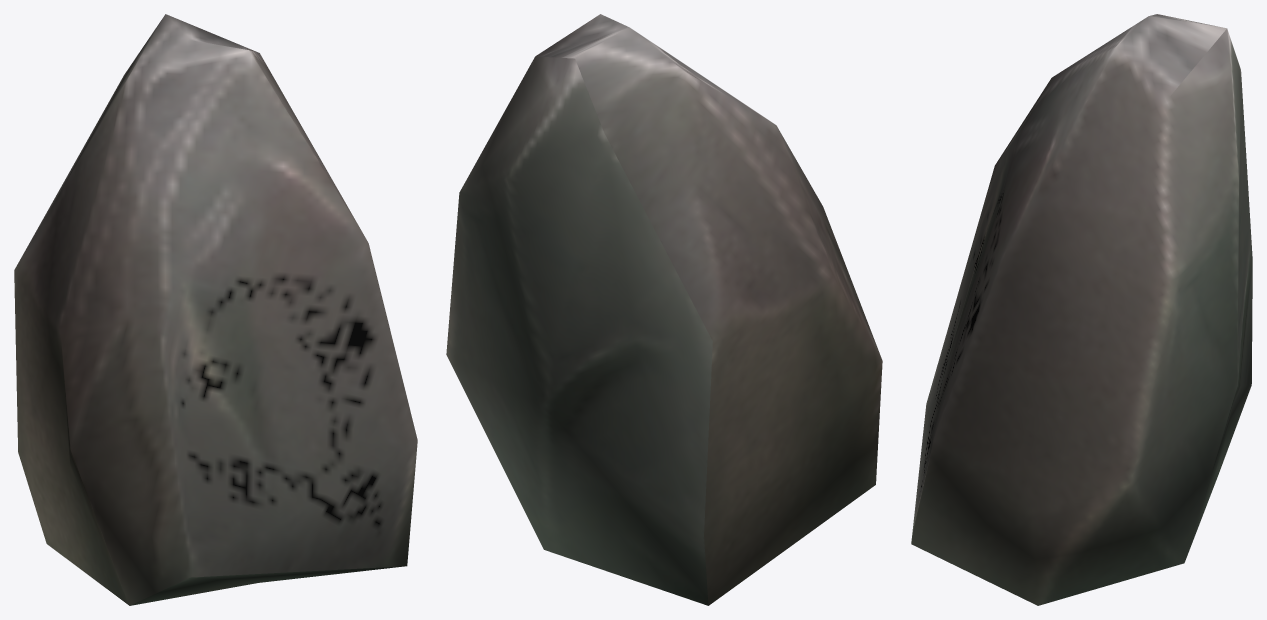
3 renders of one model, left to right at view 1: azimuth 30°, elevation 25°; view 2: azimuth 150°, elevation 25°; view 3: azimuth 270°, elevation 25°, orthographic. The views are drawn at different scales.
Parts seen in each view (by area): view 1: Չ.002; view 2: Չ.002; view 3: Չ.002.
Boxes of the visible parts, left/top/right/bottom form: Չ.002: left=14, top=14, right=417, bottom=605; Չ.002: left=446, top=14, right=882, bottom=605; Չ.002: left=911, top=14, right=1252, bottom=605.
Size of the model in its own units: 68.5 by 90.16 by 54.2.
